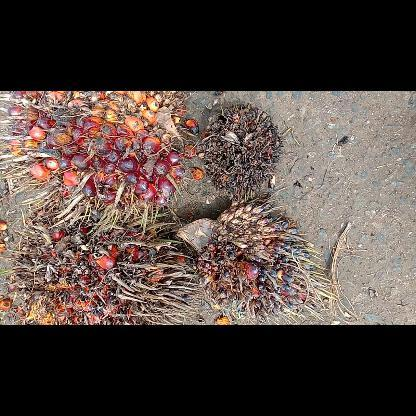TBS abnormal: (176, 196, 342, 324), (200, 102, 284, 202)
TBS masak: (4, 93, 186, 213)
Terlalu masak: (3, 210, 198, 324)
